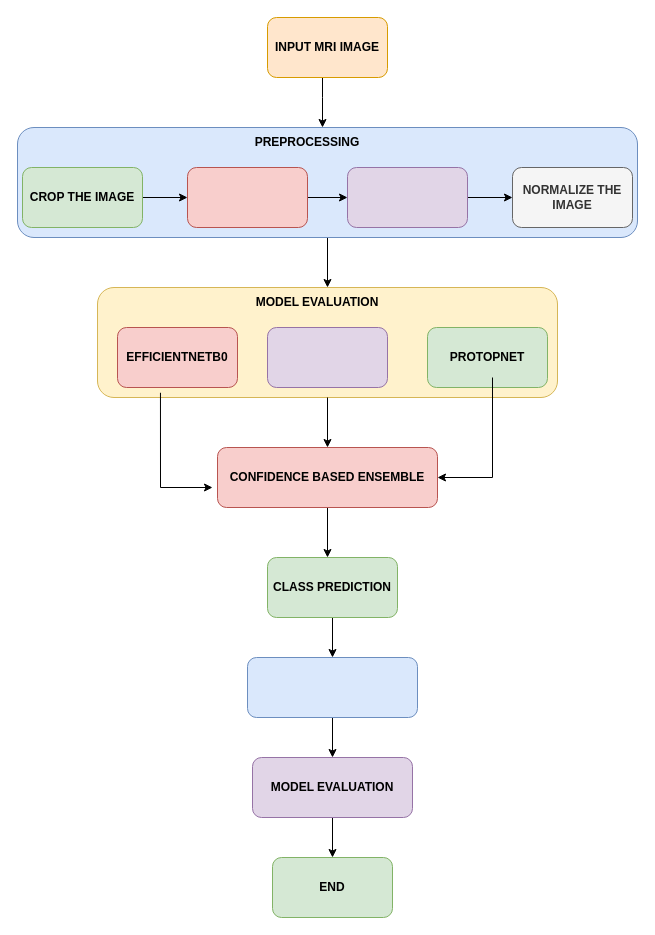
This 655x935 diagram has some shape labels left out. The shapes that lost their labels are listed below. From the top down, each one's centre as x and y in pixels, then its label:
At point (247, 197): "RESIZE THE IMAGE".
At point (407, 197): "ENHANCE THE IMAGE".
At point (327, 357): "DENSENET121".
At point (332, 687): "TUMOR LOCALIZATION".
